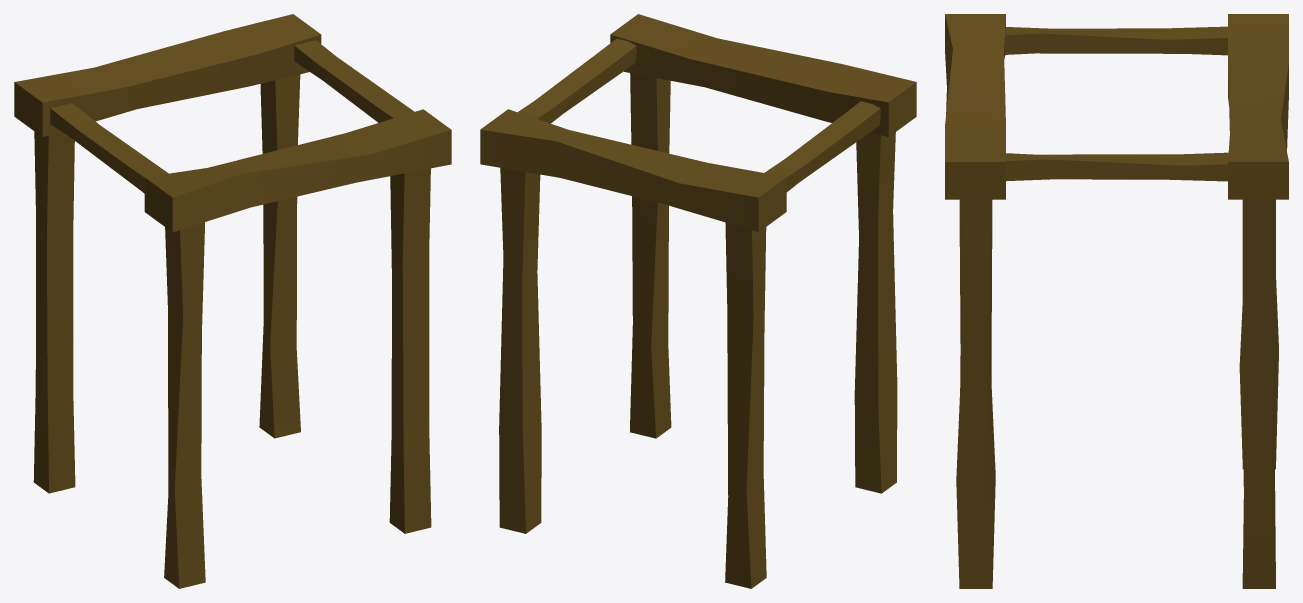
File: Model_Supports.fbx
The picture shows the model from 3 angles, left to right: view 1: azimuth 30°, elevation 25°; view 2: azimuth 150°, elevation 25°; view 3: azimuth 270°, elevation 25°; orthographic projection. The views are drawn at different scales.
Parts seen in each view (by area): view 1: pCube75, pCube76, pCube73, pCube71, pCube74, pCube72, pCube77, pCube78; view 2: pCube76, pCube75, pCube72, pCube74, pCube71, pCube73, pCube77, pCube78; view 3: pCube72, pCube73, pCube76, pCube75, pCube78, pCube77, pCube74, pCube71.
Boxes of the visible parts, x1=… form: pCube75: x1=144, y1=109, x2=451, y2=232; pCube76: x1=14, y1=14, x2=321, y2=137; pCube73: x1=389, y1=168, x2=431, y2=533; pCube71: x1=33, y1=131, x2=75, y2=493; pCube74: x1=164, y1=222, x2=205, y2=588; pCube72: x1=259, y1=74, x2=300, y2=438; pCube77: x1=294, y1=40, x2=414, y2=122; pCube78: x1=50, y1=103, x2=168, y2=193; pCube76: x1=480, y1=109, x2=786, y2=232; pCube75: x1=610, y1=14, x2=916, y2=136; pCube72: x1=499, y1=168, x2=541, y2=533; pCube74: x1=854, y1=132, x2=897, y2=493; pCube71: x1=725, y1=222, x2=766, y2=588; pCube73: x1=630, y1=73, x2=671, y2=438; pCube77: x1=518, y1=38, x2=636, y2=123; pCube78: x1=764, y1=101, x2=880, y2=191; pCube72: x1=1242, y1=199, x2=1275, y2=588; pCube73: x1=956, y1=199, x2=995, y2=588; pCube76: x1=1228, y1=14, x2=1288, y2=199; pCube75: x1=945, y1=14, x2=1005, y2=199; pCube78: x1=1004, y1=26, x2=1227, y2=55; pCube77: x1=1006, y1=152, x2=1228, y2=181; pCube74: x1=959, y1=199, x2=992, y2=389; pCube71: x1=1239, y1=280, x2=1278, y2=469.
Bounding box in the file's own units: 2.21 × 3.05 × 2.17.
